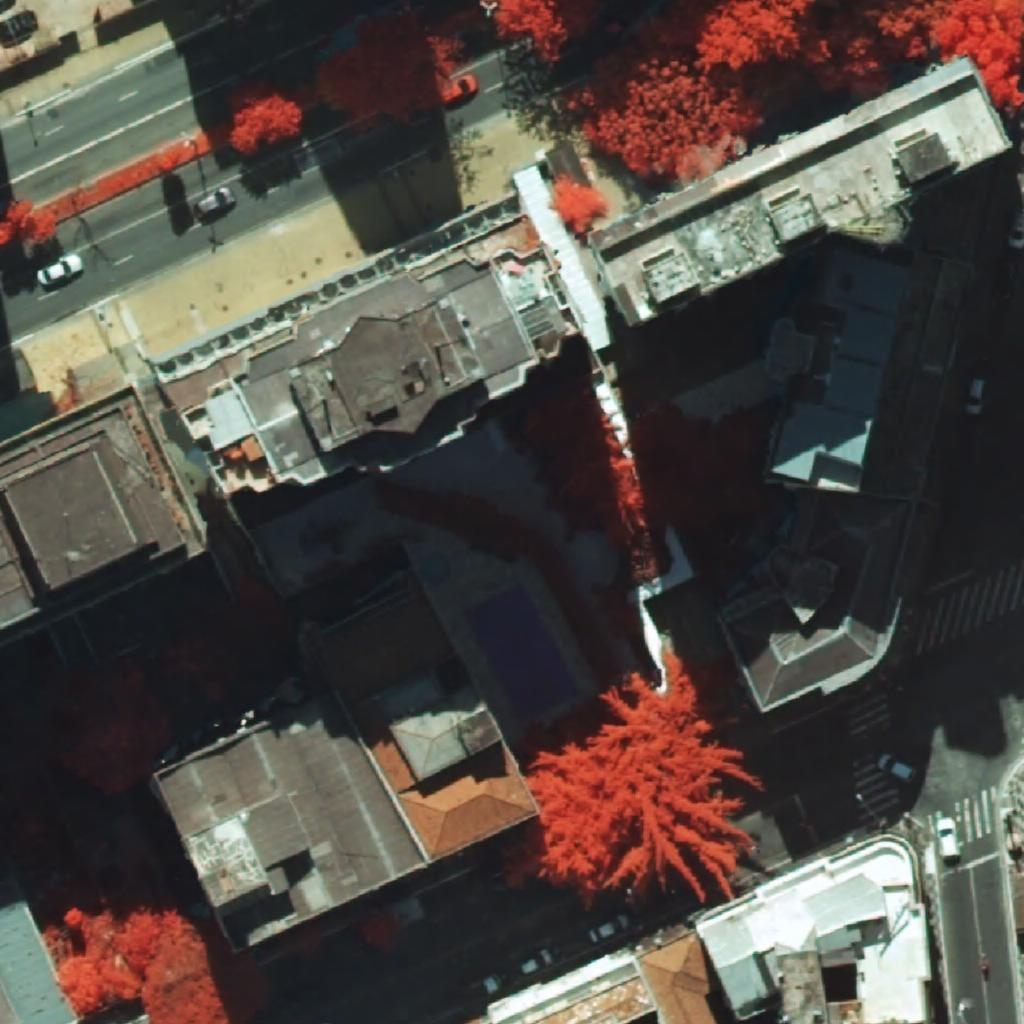pool: (464, 583, 580, 722)
